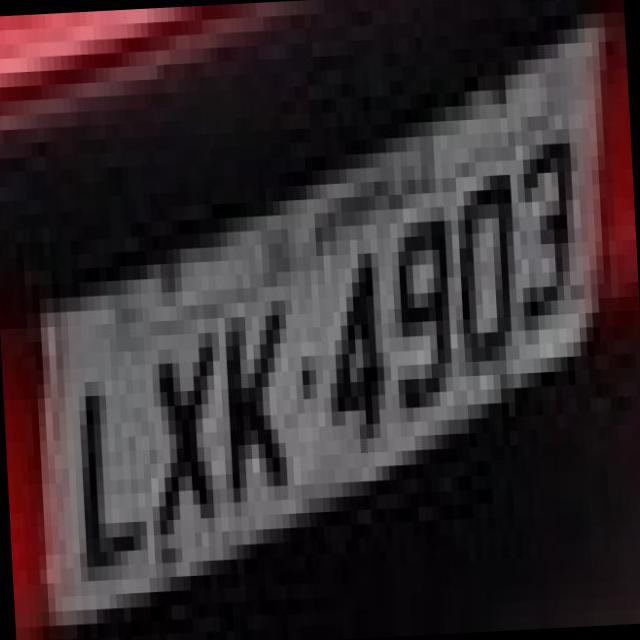3: (494, 115, 586, 318)
4: (294, 210, 387, 428)
9: (368, 178, 460, 396)
D: (433, 132, 520, 364)
K: (194, 258, 302, 490)
L: (48, 337, 148, 555)
X: (128, 289, 228, 522)
